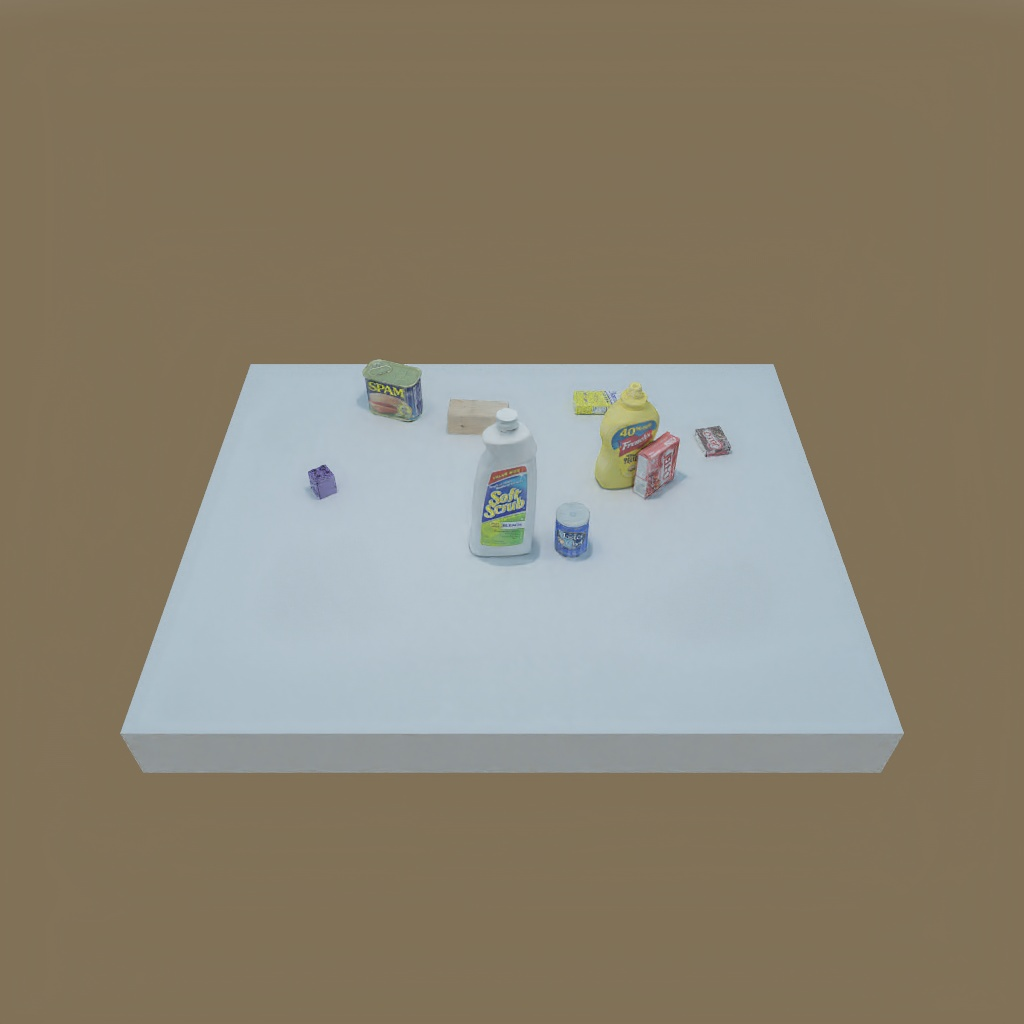gelatin_box: (634, 435, 680, 501)
master_chef_can: (552, 500, 595, 565)
mustard_bottle: (594, 387, 661, 490)
potted_meat_can: (364, 359, 423, 421)
pudding_box: (692, 420, 734, 459)
wood_block: (445, 395, 516, 438)
